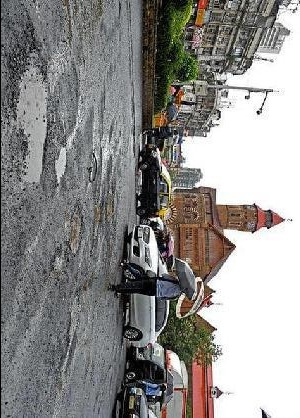pothole: (13, 54, 50, 190), (66, 206, 85, 256), (53, 143, 70, 184), (88, 150, 99, 183)
